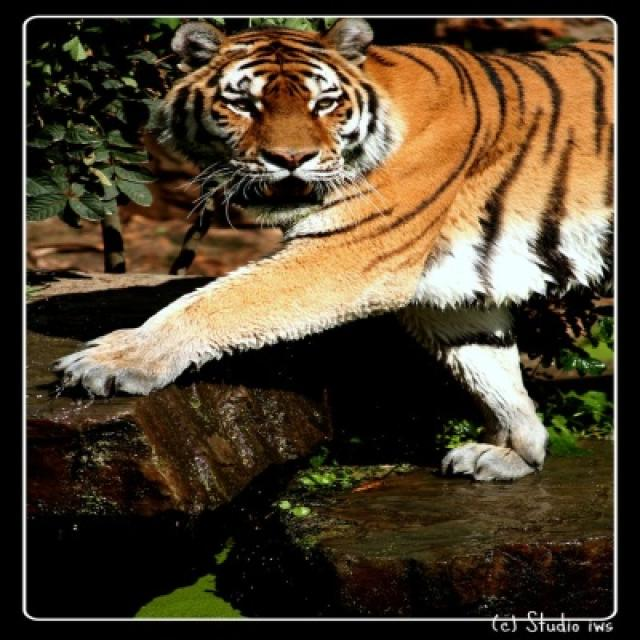Tiger: (60, 16, 610, 474)
